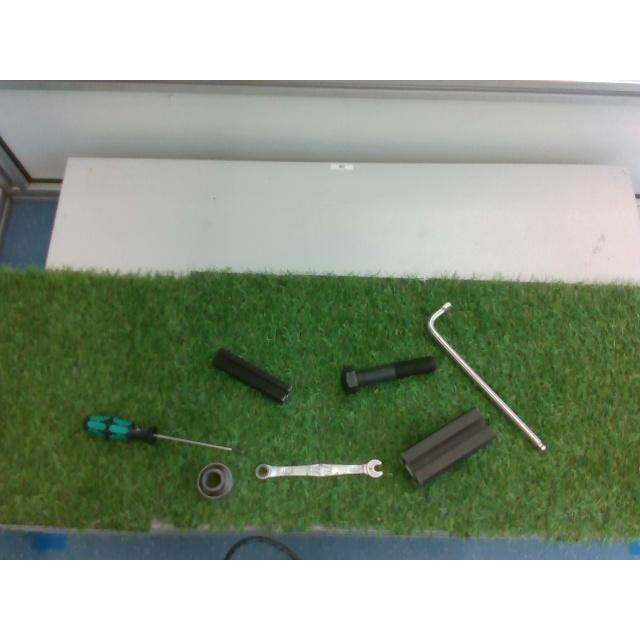AllenKey: (426, 302, 546, 451)
Bearing2: (197, 462, 233, 498)
F20_20_B: (212, 348, 292, 402)
M20_100: (342, 356, 436, 392)
S40_40_B: (401, 407, 495, 485)
Screwdriver: (83, 415, 247, 455)
Wrench: (255, 459, 383, 479)
